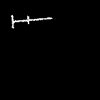double_crochet: (11, 15, 51, 27)
